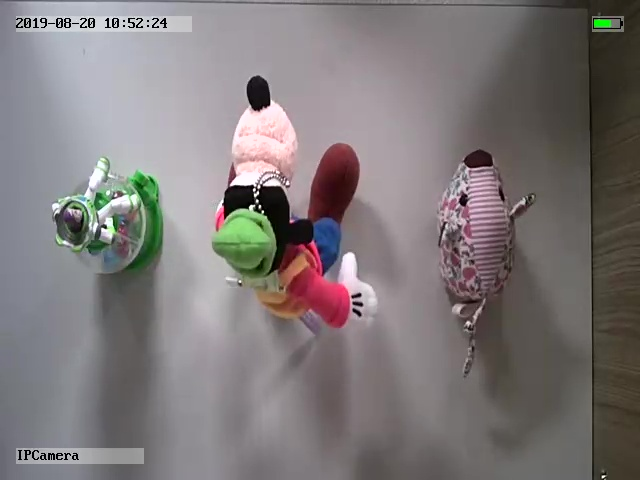buzz: (50, 156, 164, 274)
goofy: (210, 75, 377, 335)
pig: (435, 149, 535, 374)
